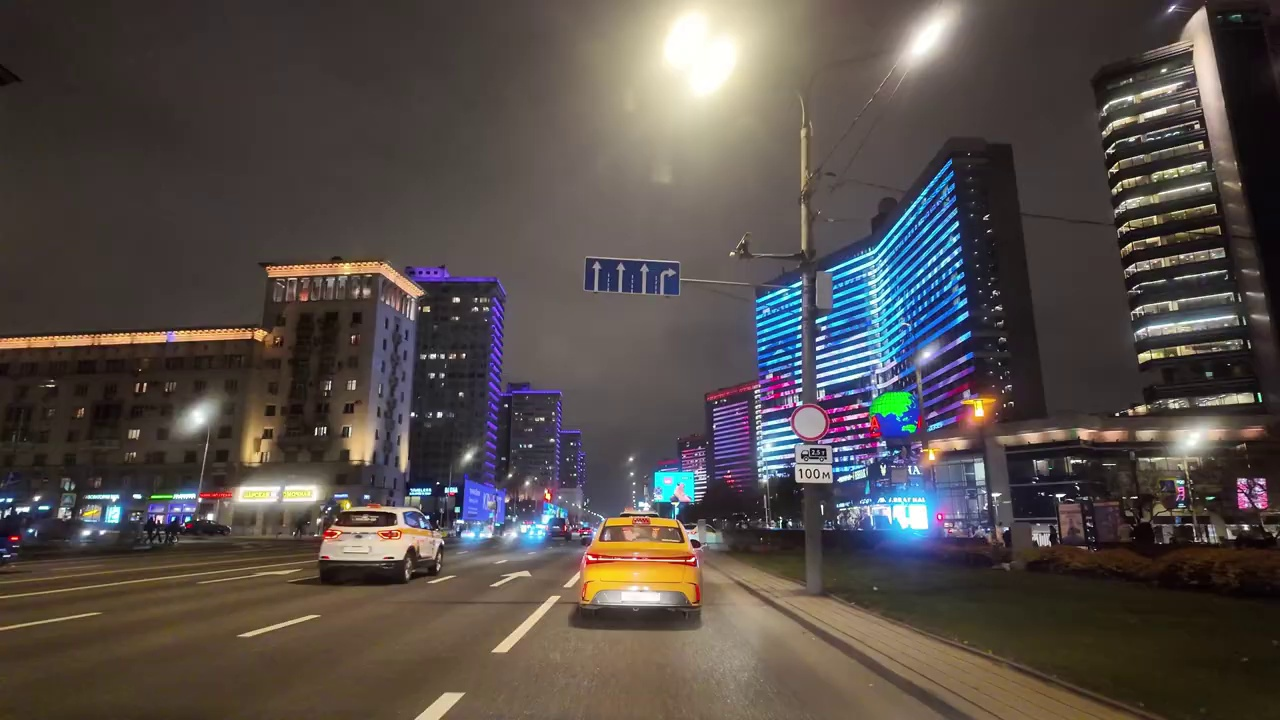acesa: (656, 15, 750, 105), (900, 8, 961, 69), (177, 399, 213, 435)
